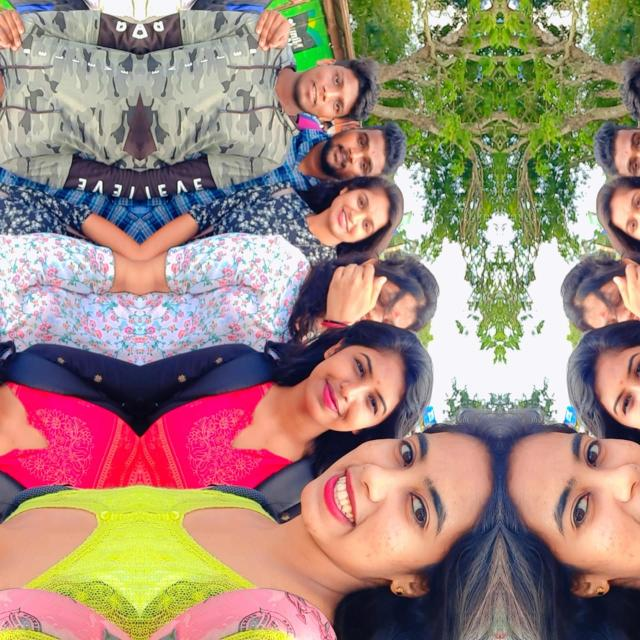person: (150, 446, 500, 626), (192, 330, 440, 464), (500, 445, 640, 626), (0, 445, 130, 626), (232, 15, 382, 140), (251, 174, 415, 264), (0, 329, 88, 464), (559, 329, 640, 464), (0, 14, 47, 139), (585, 174, 640, 263), (618, 14, 640, 139), (0, 174, 29, 263)
